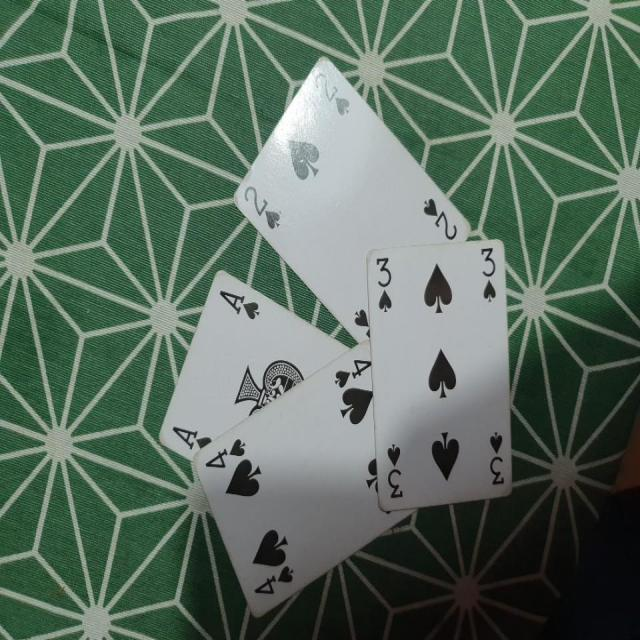2 Spades: (225, 46, 476, 342)
3 Spades: (353, 231, 524, 523)
4 Spades: (192, 348, 414, 625)
A Spades: (140, 256, 373, 478)
